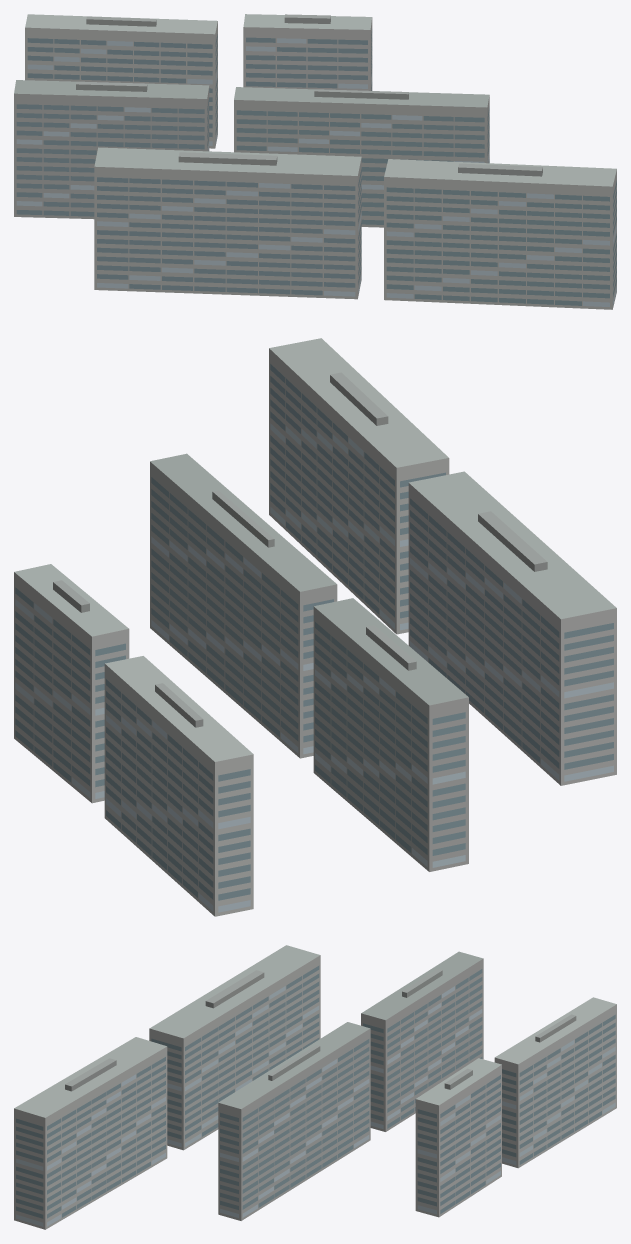
File: apt-a13886009.glb
3 views of the same model, one above another, from view 1: azimuth 30°, elevation 25°; view 2: azimuth 150°, elevation 25°; view 3: azimuth 270°, elevation 25° (orthographic). The views are drawn at different scales.
Visible parts, largest first — view 1: apt-a13886009; view 2: apt-a13886009; view 3: apt-a13886009.
Part boxes in pixels (box(x1,y1,x2,y2)): apt-a13886009: box(14, 14, 616, 309); apt-a13886009: box(14, 338, 616, 916); apt-a13886009: box(14, 945, 616, 1229).
Bounding box in the file's own units: 141 × 44.62 × 208.
